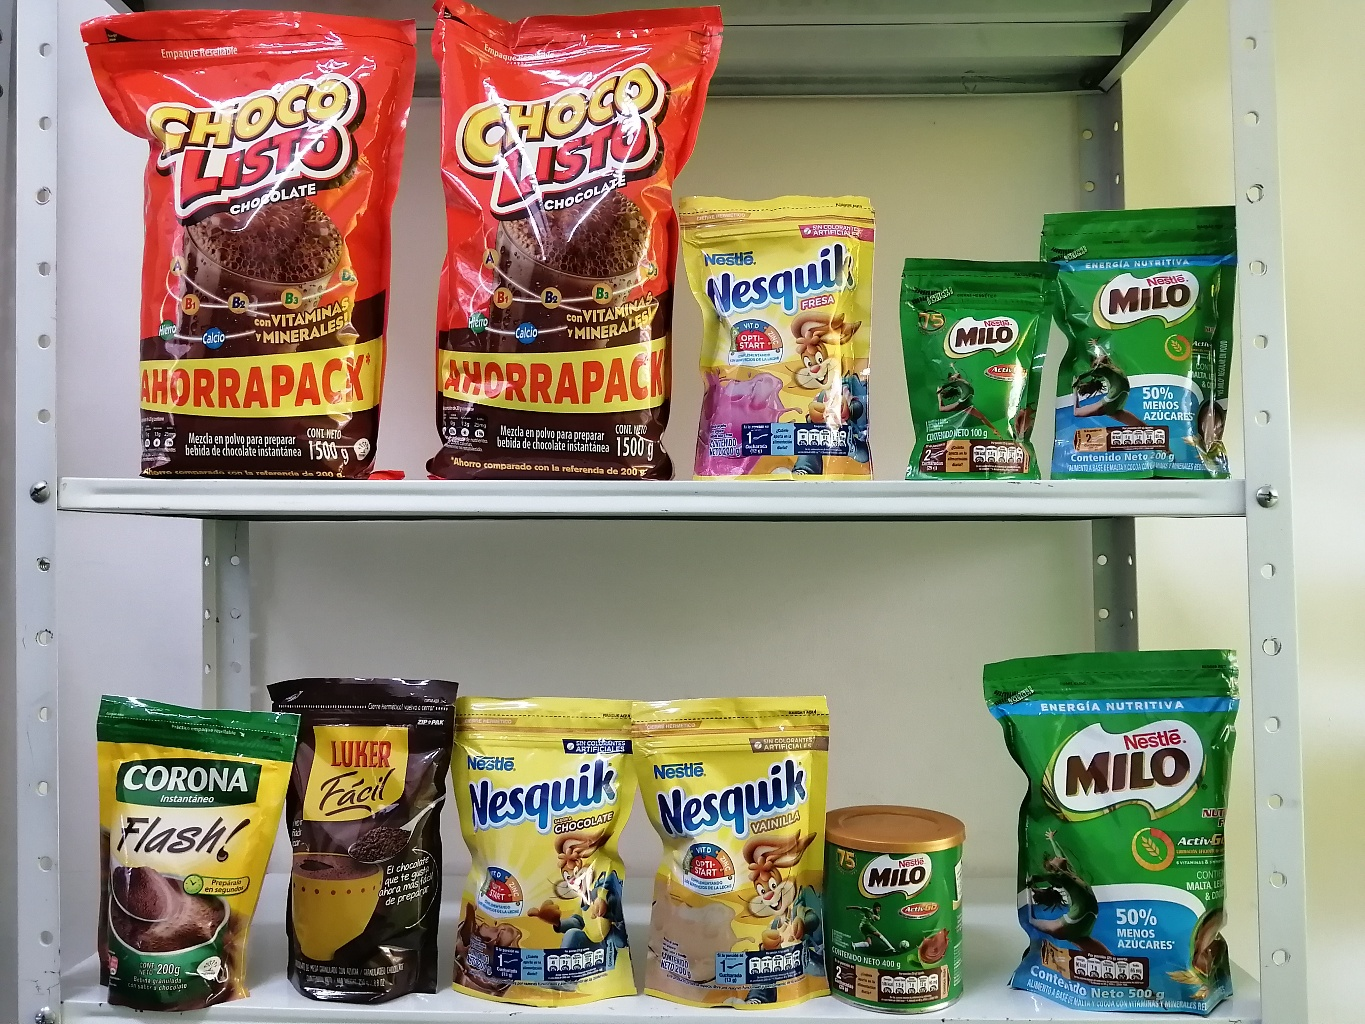COL0170103DYP1,500: (422, 0, 720, 487)
COL0170203DYP10000: (893, 248, 1051, 475)
COL0170203LAT40000: (821, 792, 976, 1010)
COL0170205DYP20000: (1036, 194, 1242, 485)
COL0170205DYP50000: (975, 634, 1245, 1016)
COL0170303DYP20000: (450, 688, 642, 1006)
COL0170305DYP20000: (679, 180, 893, 485)
COL0170306DYP20000: (628, 691, 845, 1011)
